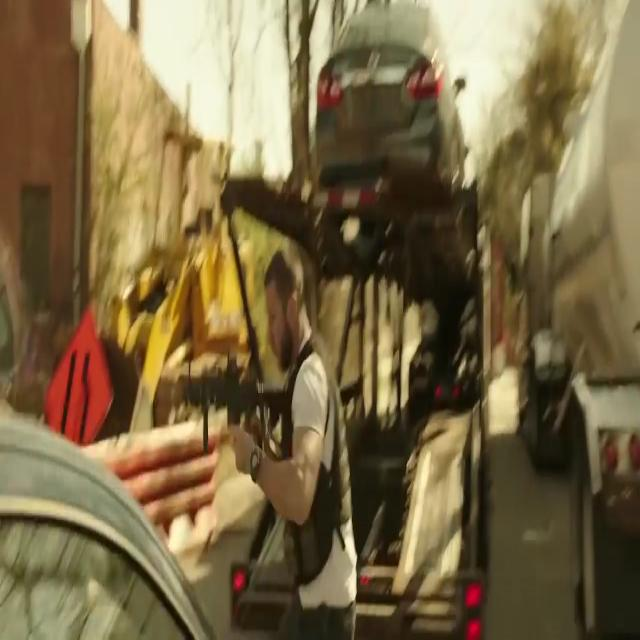Weapon: (173, 336, 297, 489)
